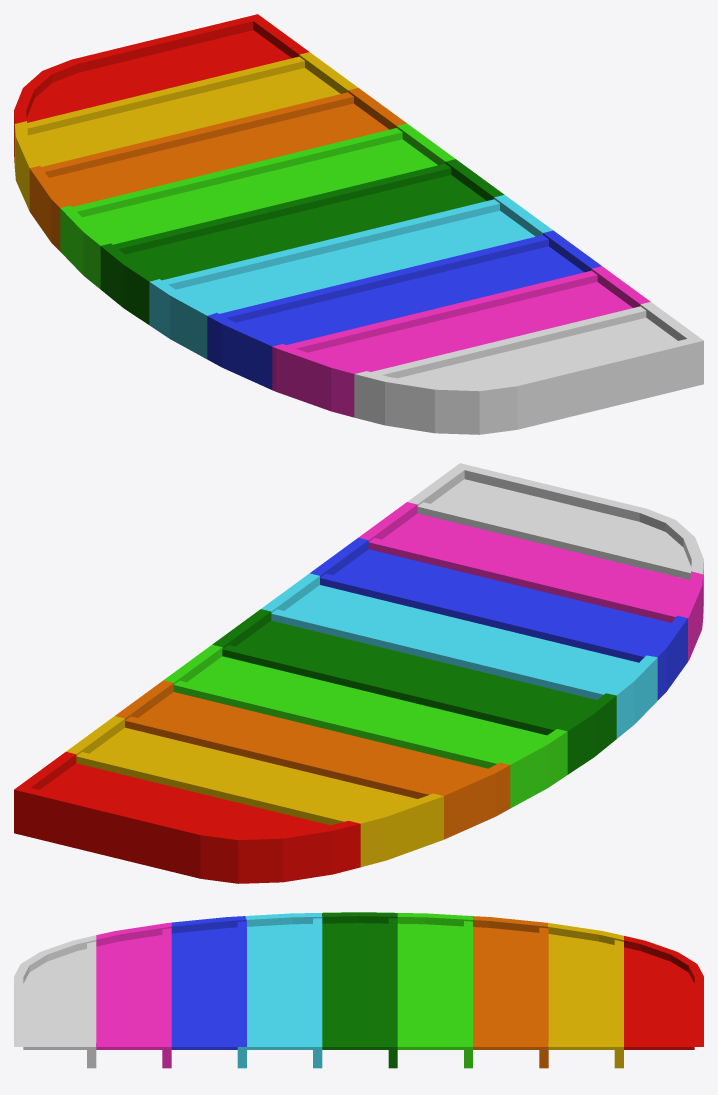
The model's file is Popit2.fbx.
3 views of the same model, one above another, from view 1: azimuth 30°, elevation 25°; view 2: azimuth 150°, elevation 25°; view 3: azimuth 270°, elevation 25° (orthographic). The views are drawn at different scales.
Visible parts, largest first — view 1: Cube.152; view 2: Cube.152; view 3: Cube.152.
Boxes of the visible parts, x1=… form: Cube.152: x1=14, y1=14, x2=703, y2=434; Cube.152: x1=14, y1=463, x2=703, y2=883; Cube.152: x1=14, y1=912, x2=703, y2=1068.
Size of the model in its own units: 56.29 by 6.57 by 122.
